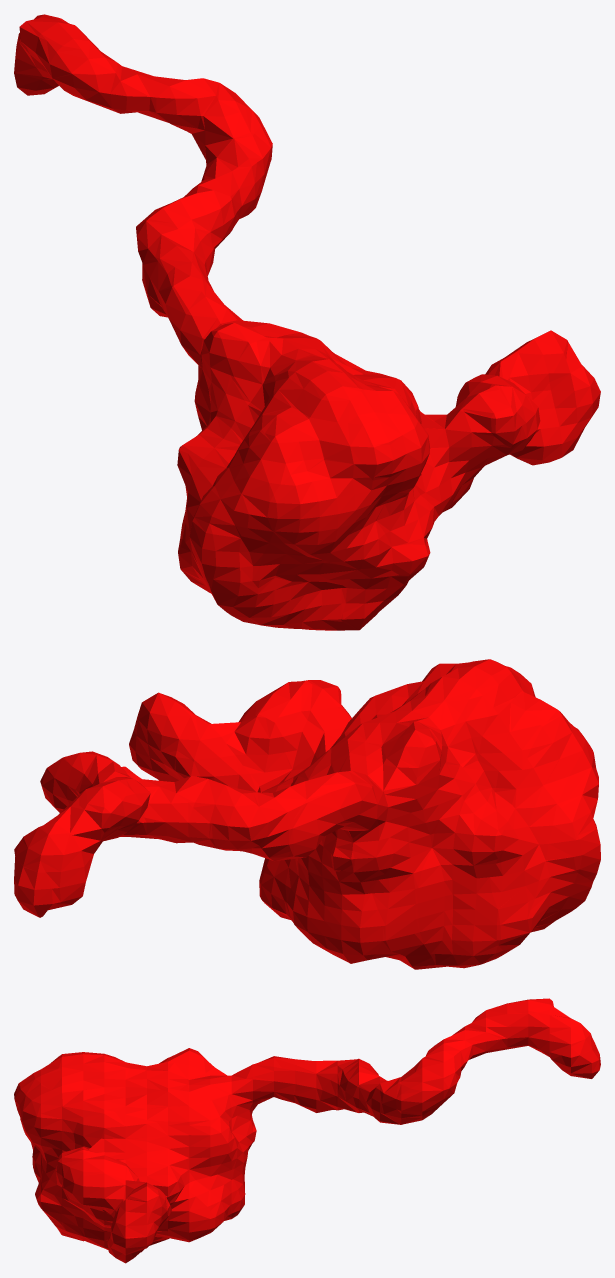
File: rfaJ_coarse.dae
The picture shows the model from 3 angles, top to bottom: view 1: azimuth 30°, elevation 25°; view 2: azimuth 150°, elevation 25°; view 3: azimuth 270°, elevation 25°; orthographic projection. The views are drawn at different scales.
Parts seen in each view (by area): view 1: rfaJ; view 2: rfaJ; view 3: rfaJ.
Part boxes in pixels (x1,y1,x2,y2): rfaJ: (14,14,600,630); rfaJ: (14,659,600,969); rfaJ: (14,998,600,1263).
Size of the model in its own units: 79.57 by 64.24 by 135.
